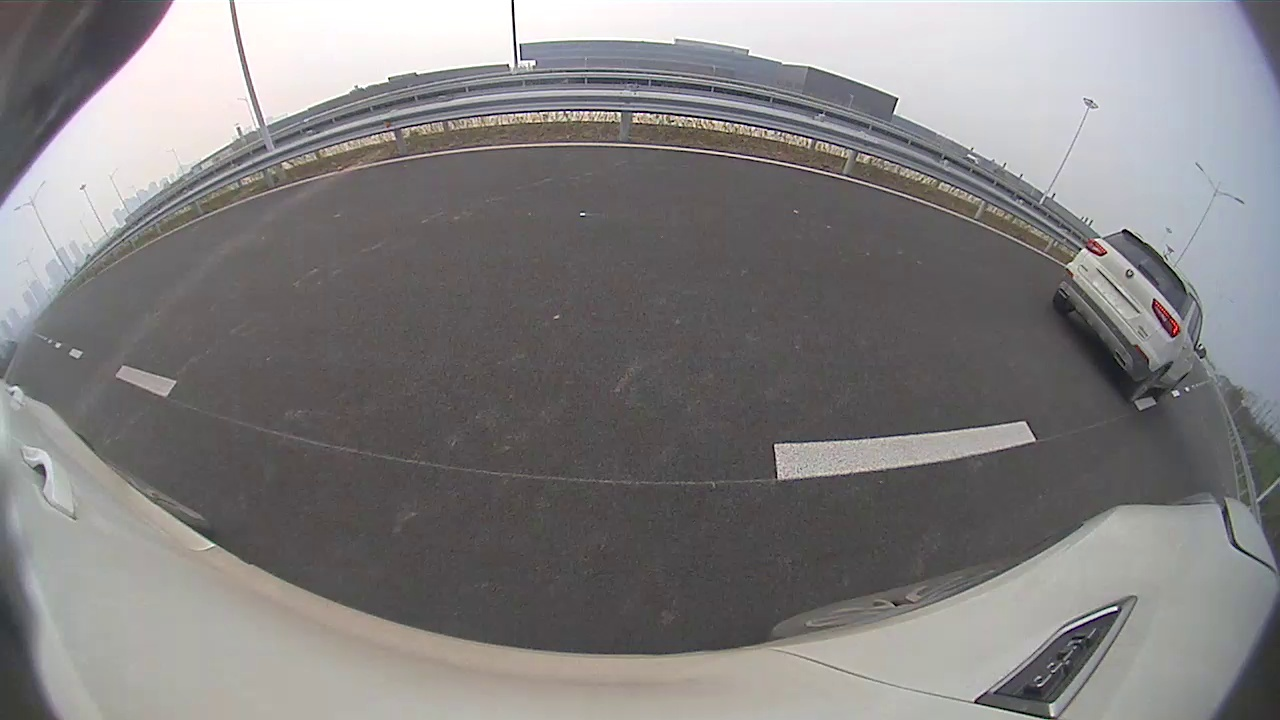car: (1053, 228, 1206, 403)
rear: (1132, 367, 1169, 402)
